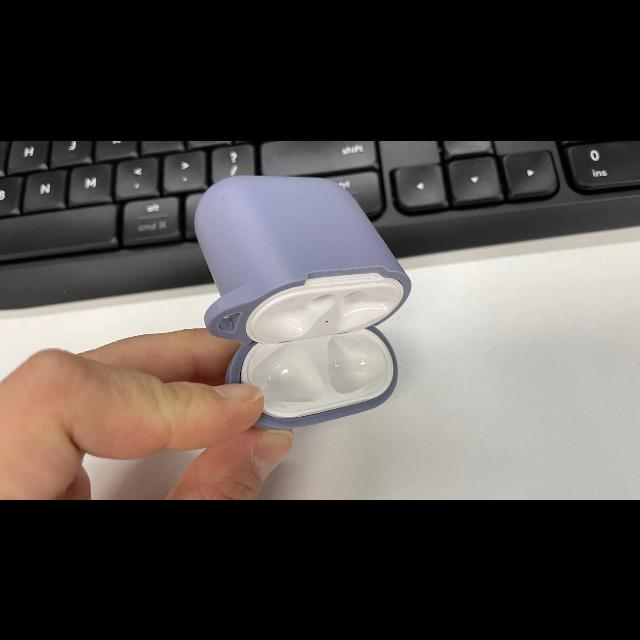airpods: (196, 176, 412, 429)
